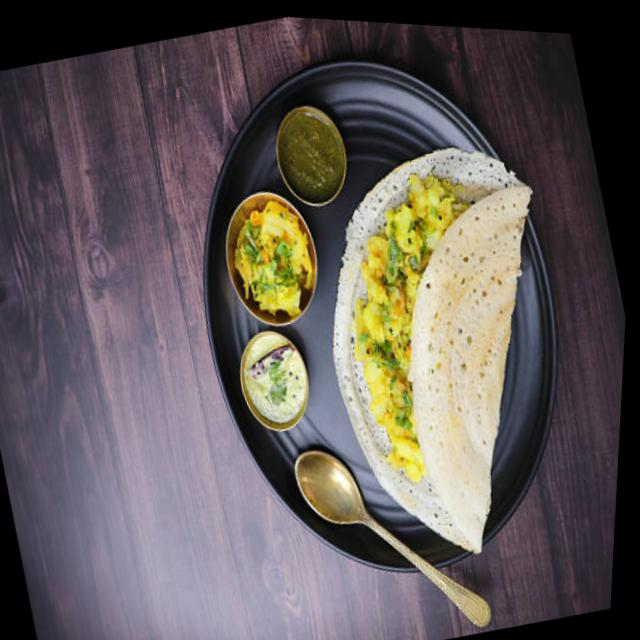DOSA: (330, 149, 531, 557)
GREEN CHUTNEY: (278, 106, 338, 192)
VEGGIES: (236, 204, 311, 308)
WHITE CHUTNEY: (245, 335, 305, 417)
